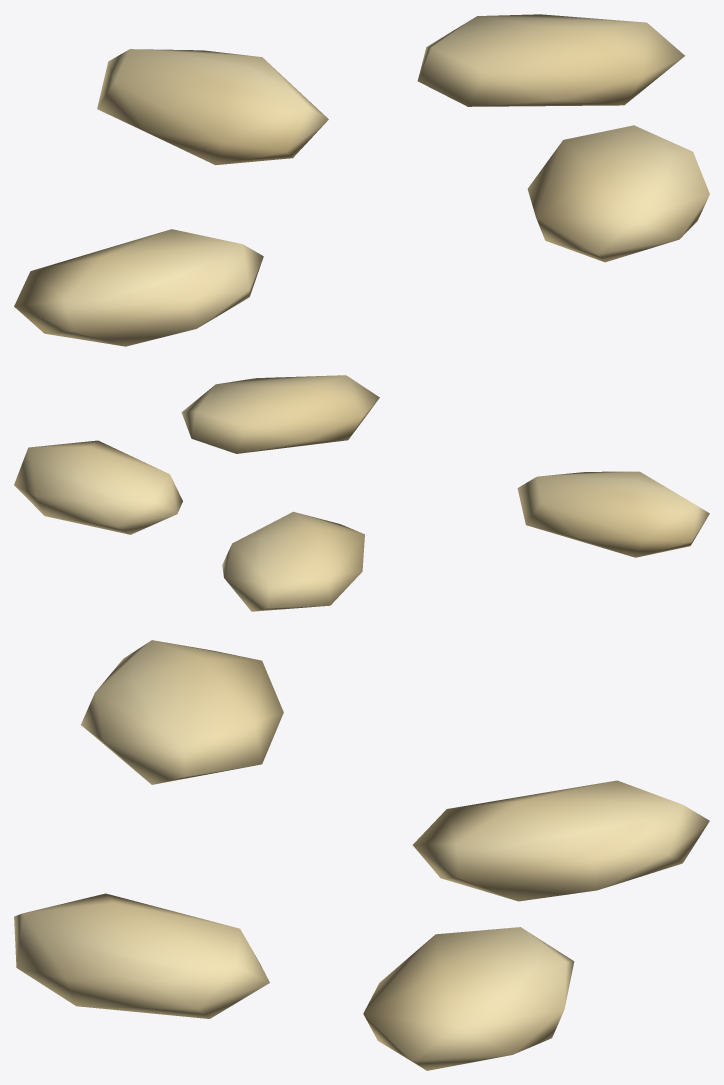
File: NP_ChiliPepper_Seed_LOD1.fbx
3 renders of one model, top to bottom at view 1: azimuth 30°, elevation 25°; view 2: azimuth 150°, elevation 25°; view 3: azimuth 270°, elevation 25°, orthographic. The views are drawn at different scales.
Parts seen in each view (by area): view 1: NP_ChiliPepper_Seed; view 2: NP_ChiliPepper_Seed; view 3: NP_ChiliPepper_Seed.
Part boxes in pixels (<box>): NP_ChiliPepper_Seed: <box>14,14,709,346</box>; NP_ChiliPepper_Seed: <box>14,375,709,611</box>; NP_ChiliPepper_Seed: <box>14,640,709,1070</box>.
Bounding box in the file's own units: 14.26 × 1.19 × 10.27.
